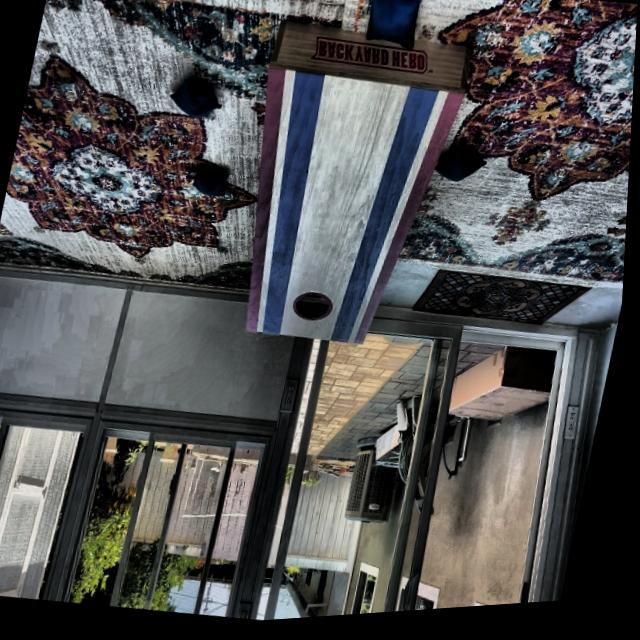blue-bean-bag: (359, 0, 427, 58), (167, 79, 227, 128), (436, 153, 491, 196), (194, 170, 233, 203)
board: (243, 69, 427, 356)
hole: (292, 293, 338, 331)
